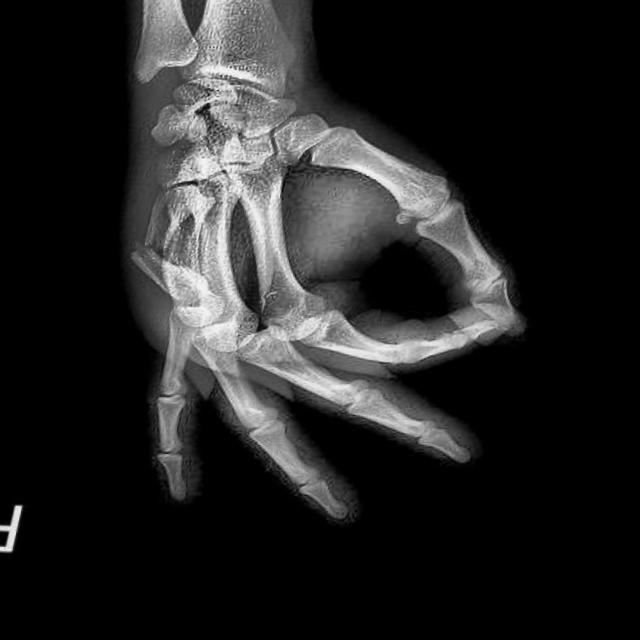fracture: (133, 234, 184, 270)
